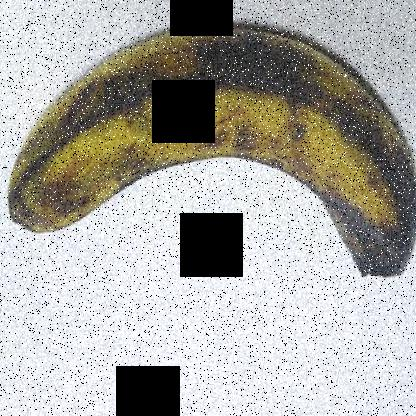overripe: (0, 6, 415, 298)
